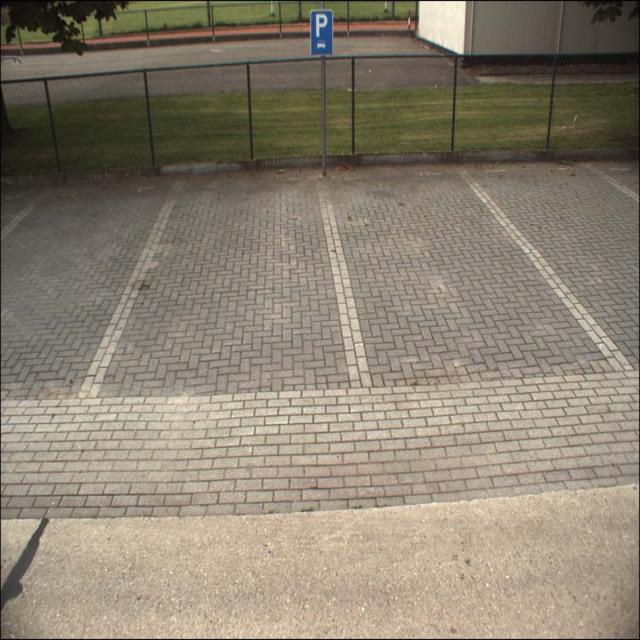park: (310, 10, 334, 42)
